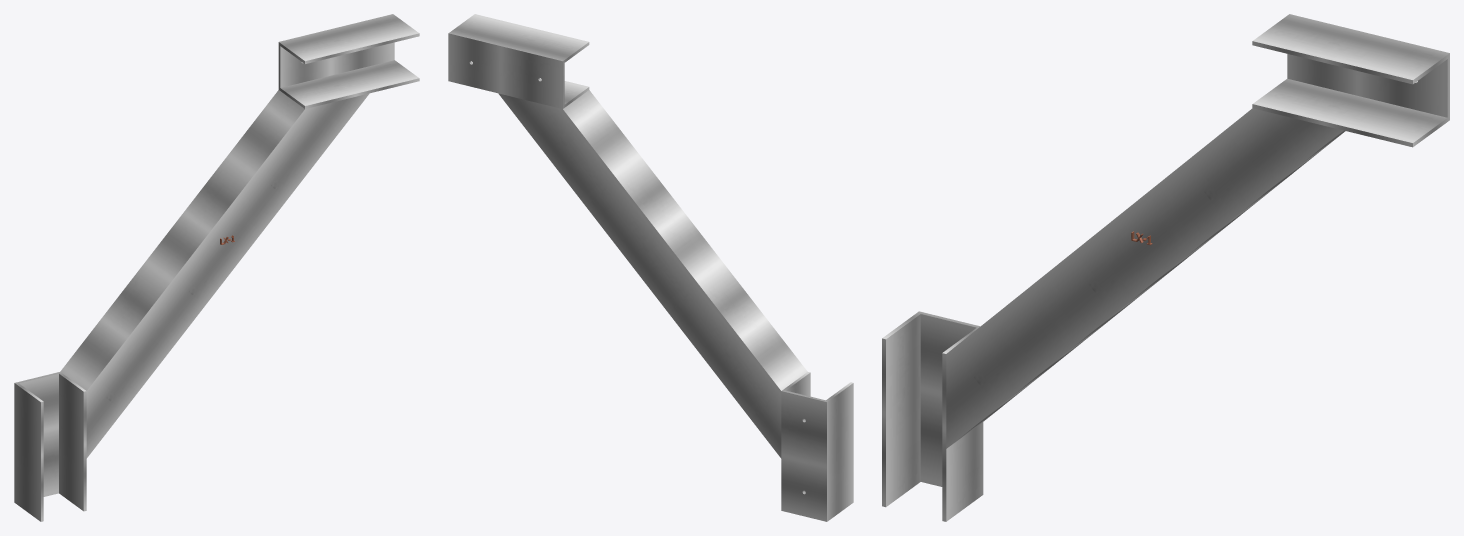
3 renders of one model, left to right at view 1: azimuth 30°, elevation 25°; view 2: azimuth 150°, elevation 25°; view 3: azimuth 330°, elevation 25°, orthographic. The views are drawn at different scales.
Visible parts, largest first — view 1: G-Object, G-Object.002, G-Object.001; view 2: G-Object, G-Object.002, G-Object.001; view 3: G-Object, G-Object.001, G-Object.002.
Part boxes in pixels (x1,y1,x2,y2): G-Object: (60, 90, 369, 458); G-Object.002: (14, 372, 86, 521); G-Object.001: (278, 14, 419, 108); G-Object: (498, 90, 807, 458); G-Object.002: (781, 372, 853, 521); G-Object.001: (448, 14, 589, 108); G-Object: (946, 108, 1345, 448); G-Object.001: (1252, 14, 1449, 147); G-Object.002: (882, 311, 983, 521).
Size of the model in its own units: 0.3309 by 0.3309 by 0.042.
Materials: 2 (2 with a texture image).
